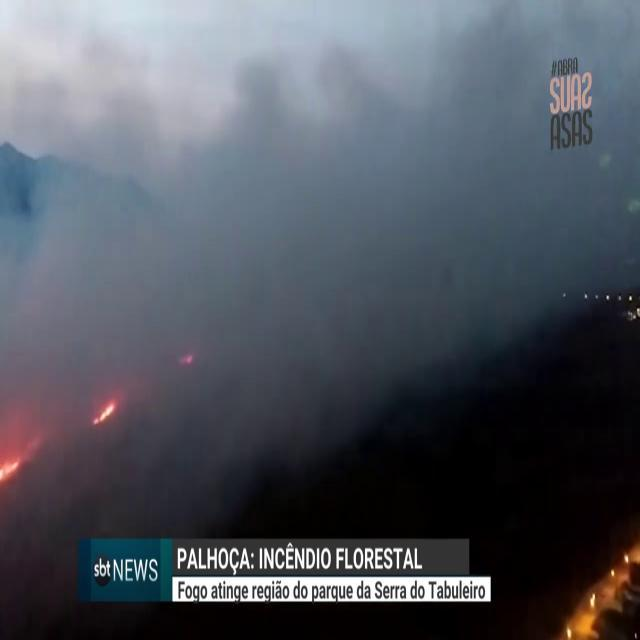Fire: (95, 400, 116, 423)
